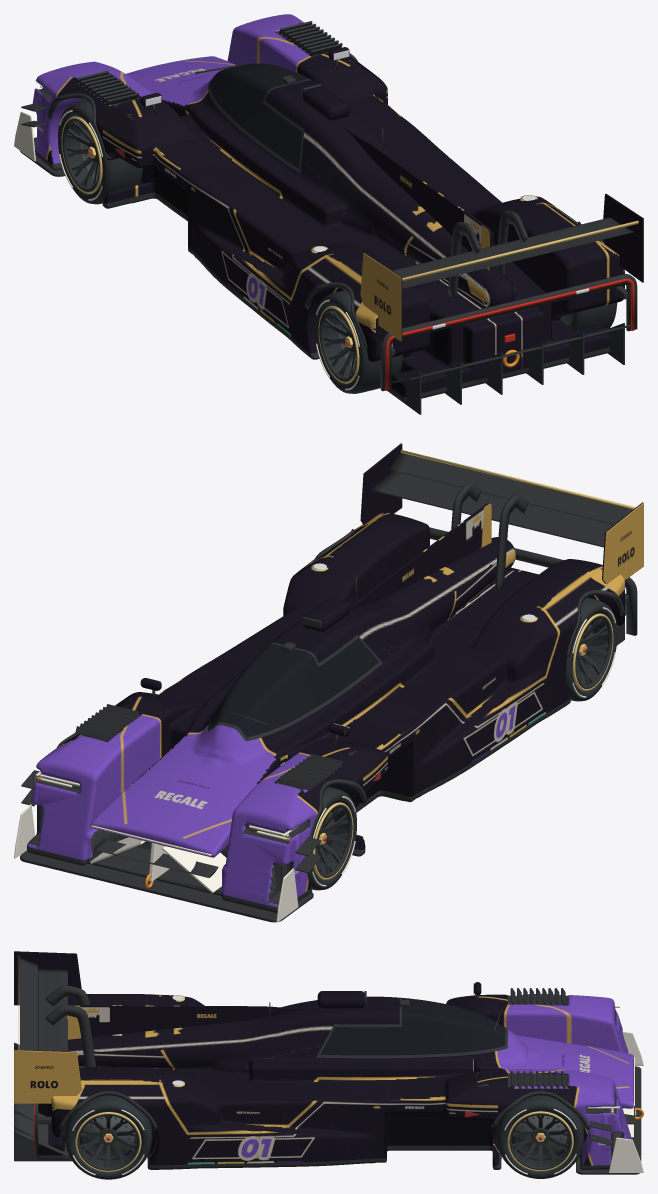
File: regale.fbx
The picture shows the model from 3 angles, top to bottom: view 1: azimuth 30°, elevation 25°; view 2: azimuth 150°, elevation 25°; view 3: azimuth 270°, elevation 25°; orthographic projection. The views are drawn at different scales.
Visible parts, largest first — view 1: Body, Wheel_FL_Mesh, Wheel_RL_Mesh, Wheel_RR_Mesh; view 2: Body, Wheel_RL_Mesh, Wheel_FL_Mesh; view 3: Body, Wheel_RR_Mesh, Wheel_FR_Mesh.
Part boxes in pixels (<box>): Body: <box>14,14,643,414</box>; Wheel_FL_Mesh: <box>58,101,142,204</box>; Wheel_RL_Mesh: <box>314,290,402,393</box>; Wheel_RR_Mesh: <box>560,302,617,329</box>; Body: <box>14,443,643,922</box>; Wheel_RL_Mesh: <box>565,597,617,701</box>; Wheel_FL_Mesh: <box>307,787,356,890</box>; Body: <box>14,951,643,1174</box>; Wheel_RR_Mesh: <box>65,1095,151,1179</box>; Wheel_FR_Mesh: <box>497,1095,583,1178</box>.
Bounding box in the file's own units: 220 × 119 × 500.
14 materials, 1 textured.
